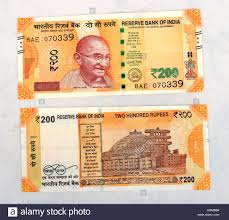twoHundred: (30, 31, 188, 82)
